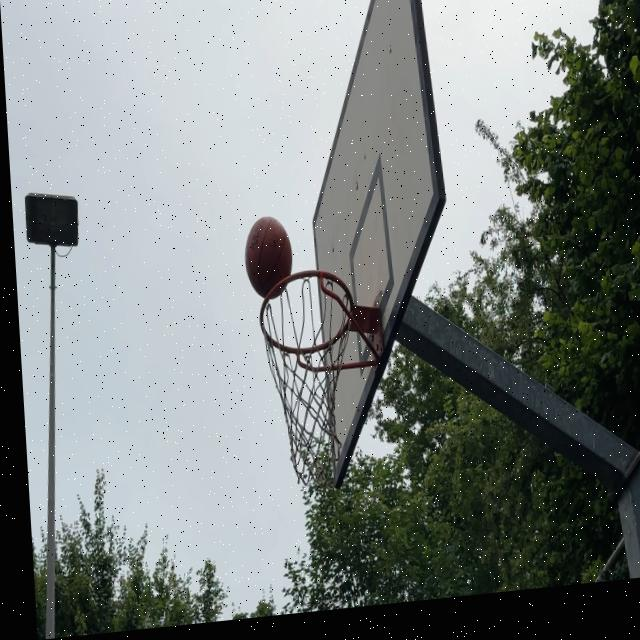rebound_hit: (243, 215, 296, 302)
